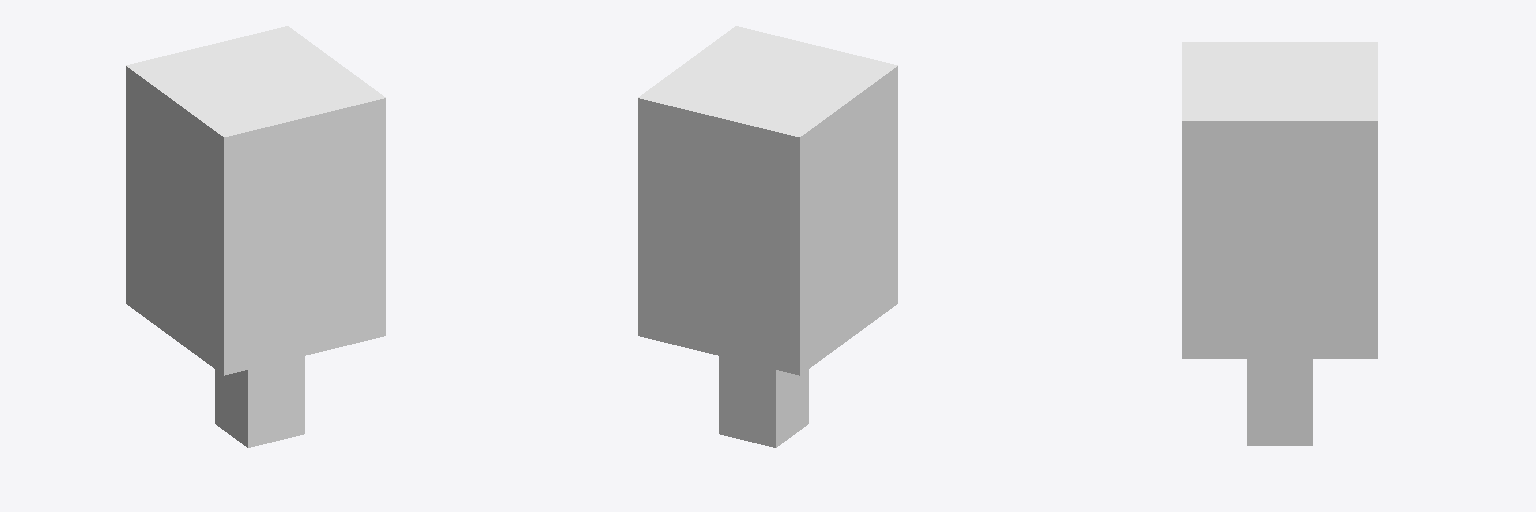
The model's file is Tree1.obj.
The picture shows the model from 3 angles: view 1: azimuth 30°, elevation 25°; view 2: azimuth 150°, elevation 25°; view 3: azimuth 270°, elevation 25°; orthographic projection.
Size of the model in its own units: 20 by 41 by 21.